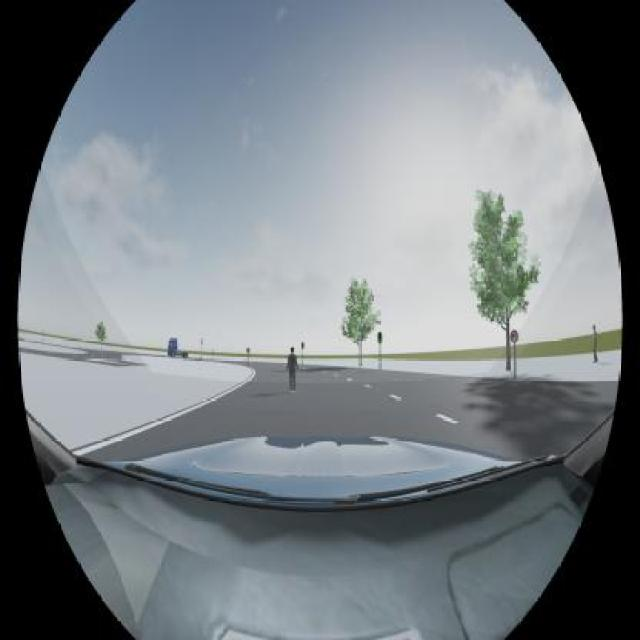forb_speed_over_70: (246, 348, 251, 352)
